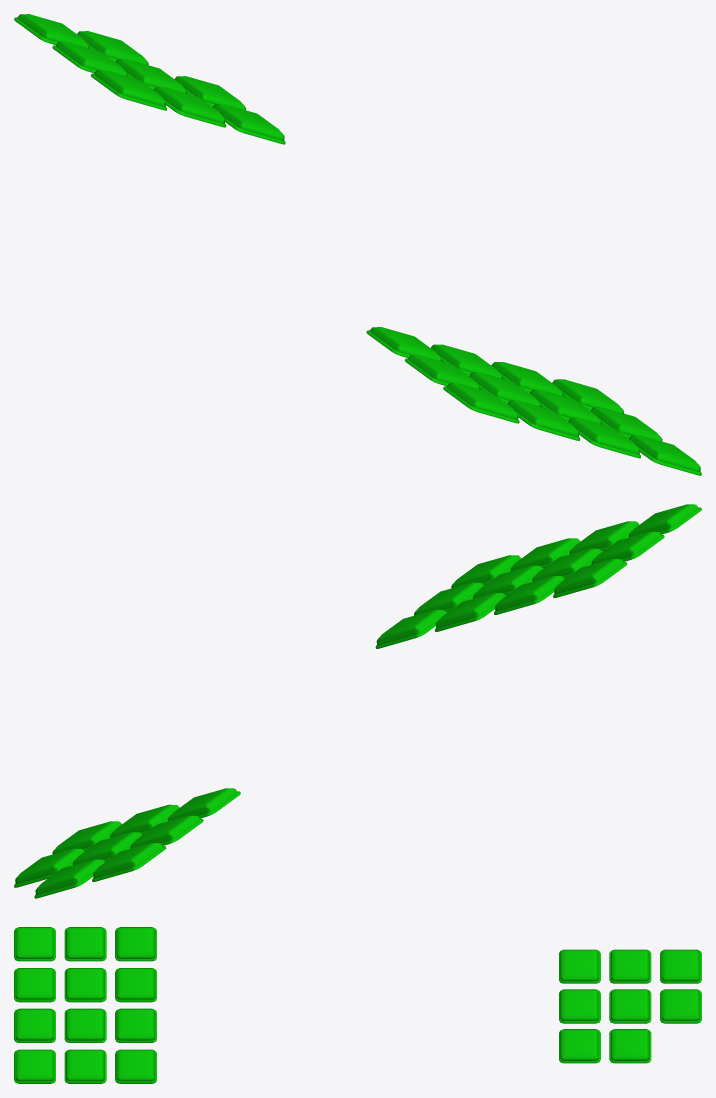
Rendered from buttons2_low.fbx.
3 renders of one model, top to bottom at view 1: azimuth 30°, elevation 25°; view 2: azimuth 150°, elevation 25°; view 3: azimuth 270°, elevation 25°, orthographic. The views are drawn at different scales.
Visible parts, largest first — view 1: PAD7_low, PAD4_low, PAD1_low, DOOR_5_low, PAD0_low, DOOR_1_low, DOOR2_low, DOOR6_low, PAD8_low, DOOR7_low, PAD9_low, PAD6_low (+8 smaller); view 2: padRESET_low, PAD9_low, DOOR7_low, PAD6_low, PAD3_low, DOOR4_low, COMFIRMDOOR_low, PAD8_low, DOOR_5_low, PAD7_low, DOOR6_low, PAD4_low (+8 smaller); view 3: padRESET_low, DOOR7_low, PAD0_low, DOOR_5_low, PAD3_low, PAD1_low, PAD2_low, PADCONFIRM_low, DOOR6_low, DOOR4_low, PAD9_low, PAD7_low (+11 smaller).
Boxes of the visible parts, box(x1,y1,x2,y2) form: PAD7_low: box(446, 383, 518, 419); PAD4_low: box(507, 400, 579, 437); PAD1_low: box(568, 418, 639, 454); DOOR_5_low: box(94, 70, 165, 106); PAD0_low: box(629, 435, 700, 471); DOOR_1_low: box(213, 104, 284, 140); DOOR2_low: box(153, 87, 225, 123); DOOR6_low: box(56, 42, 127, 76); PAD8_low: box(408, 355, 479, 389); DOOR7_low: box(17, 14, 89, 47); PAD9_low: box(370, 327, 441, 360); PAD6_low: box(431, 344, 502, 378); padRESET_low: box(376, 609, 446, 645); PAD9_low: box(554, 559, 623, 594); DOOR7_low: box(93, 843, 162, 878); PAD6_low: box(495, 576, 564, 611); PAD3_low: box(436, 592, 505, 628); DOOR4_low: box(35, 859, 104, 894); COMFIRMDOOR_low: box(15, 848, 84, 883); PAD8_low: box(591, 531, 661, 564); DOOR_5_low: box(167, 788, 237, 821); PAD7_low: box(628, 504, 698, 537); DOOR6_low: box(130, 815, 199, 848); PAD4_low: box(569, 521, 639, 554); padRESET_low: box(116, 1049, 155, 1081); DOOR7_low: box(661, 949, 700, 981); PAD0_low: box(15, 1049, 54, 1081); DOOR_5_low: box(560, 949, 599, 981); PAD3_low: box(116, 1008, 155, 1040); PAD1_low: box(15, 1008, 54, 1040); PAD2_low: box(66, 1008, 104, 1040); PADCONFIRM_low: box(66, 1049, 104, 1081); DOOR6_low: box(611, 949, 649, 981); DOOR4_low: box(661, 989, 700, 1020); PAD9_low: box(116, 927, 155, 958); PAD7_low: box(15, 927, 54, 958).
Bounding box in the file's own units: 66.36 × 34.9 × 258.
